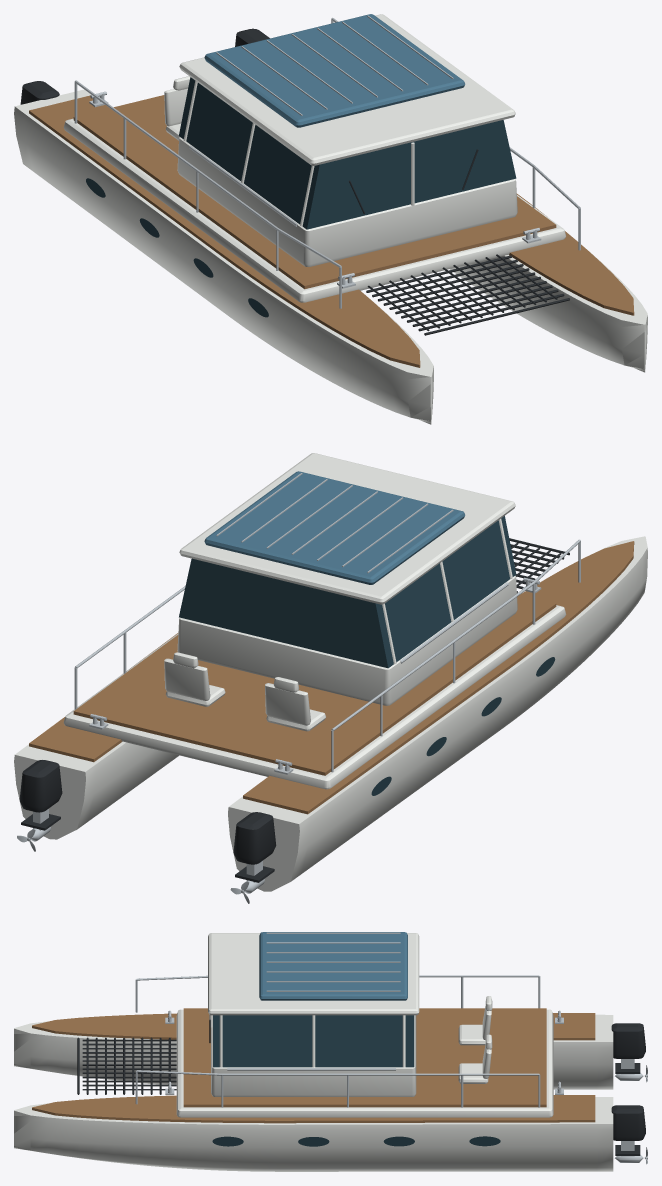
File: transport-collection-hd-power-catamaran-3824ea6d__18730.glb
The picture shows the model from 3 angles, top to bottom: view 1: azimuth 30°, elevation 25°; view 2: azimuth 150°, elevation 25°; view 3: azimuth 270°, elevation 25°; orthographic projection. The views are drawn at different scales.
Parts seen in each view (by area): view 1: power-catamaran; view 2: power-catamaran; view 3: power-catamaran.
Part boxes in pixels (x1,y1,x2,y2): power-catamaran: [14, 14, 647, 424]; power-catamaran: [14, 453, 647, 893]; power-catamaran: [14, 932, 645, 1171].
Size of the model in its own units: 4.62 by 3.23 by 11.1.
